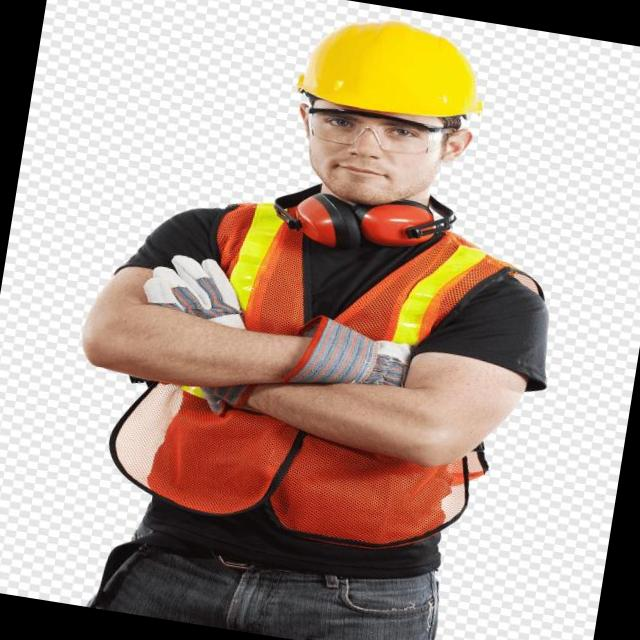Gloves: (306, 302, 428, 406), (137, 237, 260, 334)
Helmet: (298, 7, 511, 139)
Vest: (144, 180, 510, 562)
